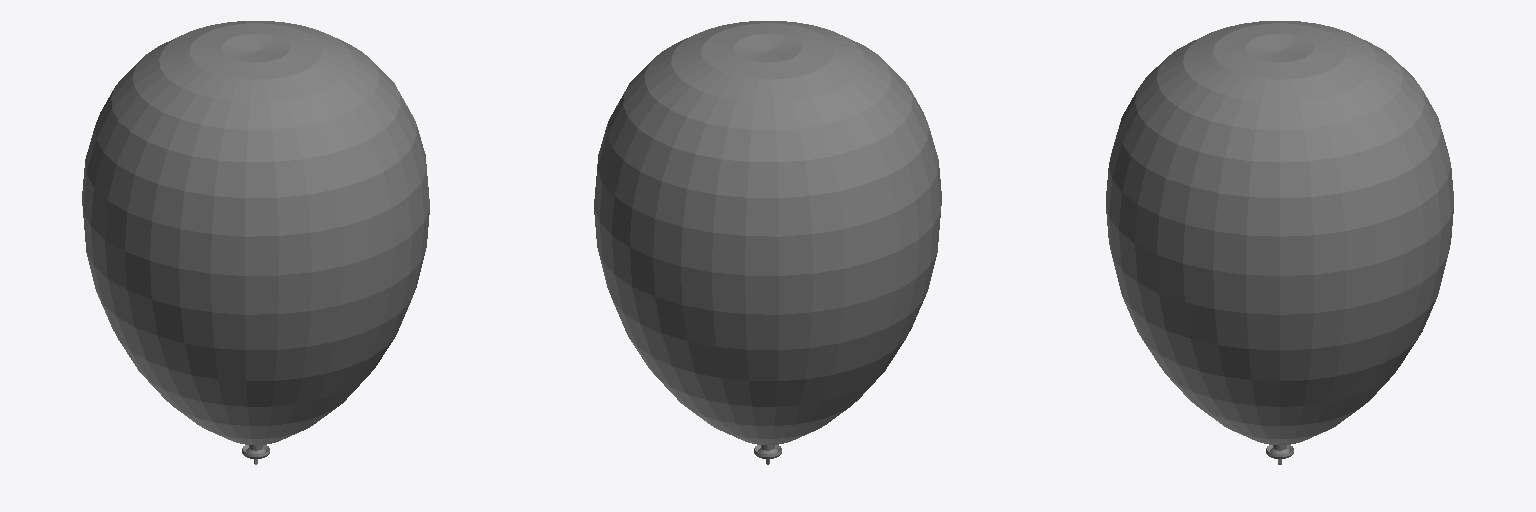
Rendered from baloon.obj.
3 views of the same model, side by side, from view 1: azimuth 30°, elevation 25°; view 2: azimuth 150°, elevation 25°; view 3: azimuth 270°, elevation 25° (orthographic).
Parts seen in each view (by area): view 1: baloons1:Mesh; view 2: baloons1:Mesh; view 3: baloons1:Mesh.
Boxes of the visible parts, x1,y1,x2,y2 form: baloons1:Mesh: [82, 21, 429, 464]; baloons1:Mesh: [594, 21, 941, 464]; baloons1:Mesh: [1106, 21, 1453, 464].
Size of the model in its own units: 2 by 2.63 by 2.